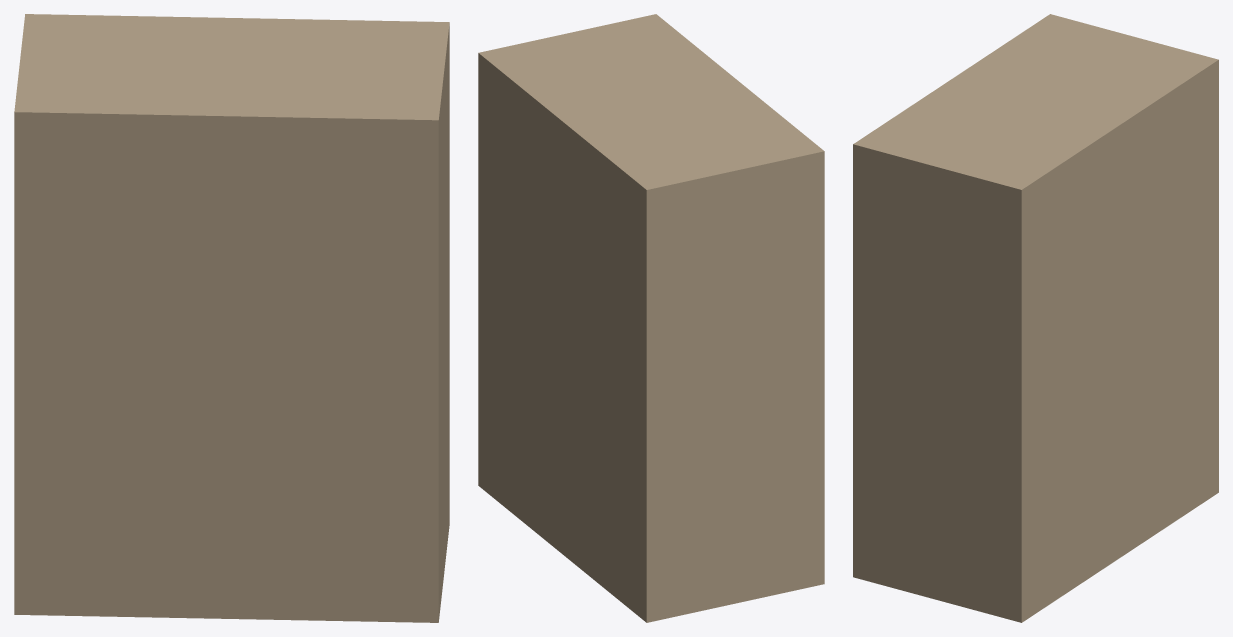
Rendered from bld_101353736.dae.
3 renders of one model, left to right at view 1: azimuth 30°, elevation 25°; view 2: azimuth 150°, elevation 25°; view 3: azimuth 270°, elevation 25°, orthographic. The views are drawn at different scales.
Parts seen in each view (by area): view 1: bld_101353736; view 2: bld_101353736; view 3: bld_101353736.
Part boxes in pixels (bbox=[...]): bld_101353736: bbox=[14, 14, 449, 622]; bld_101353736: bbox=[478, 14, 824, 622]; bld_101353736: bbox=[853, 14, 1218, 622].
Bounding box in the file's own units: 6.97 × 6.12 × 8.
